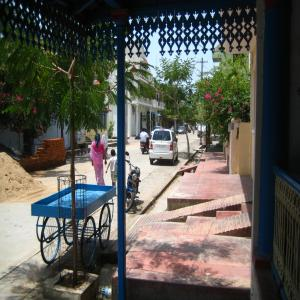Vehicle-registration-plate: (130, 179, 137, 185), (158, 146, 166, 149)
